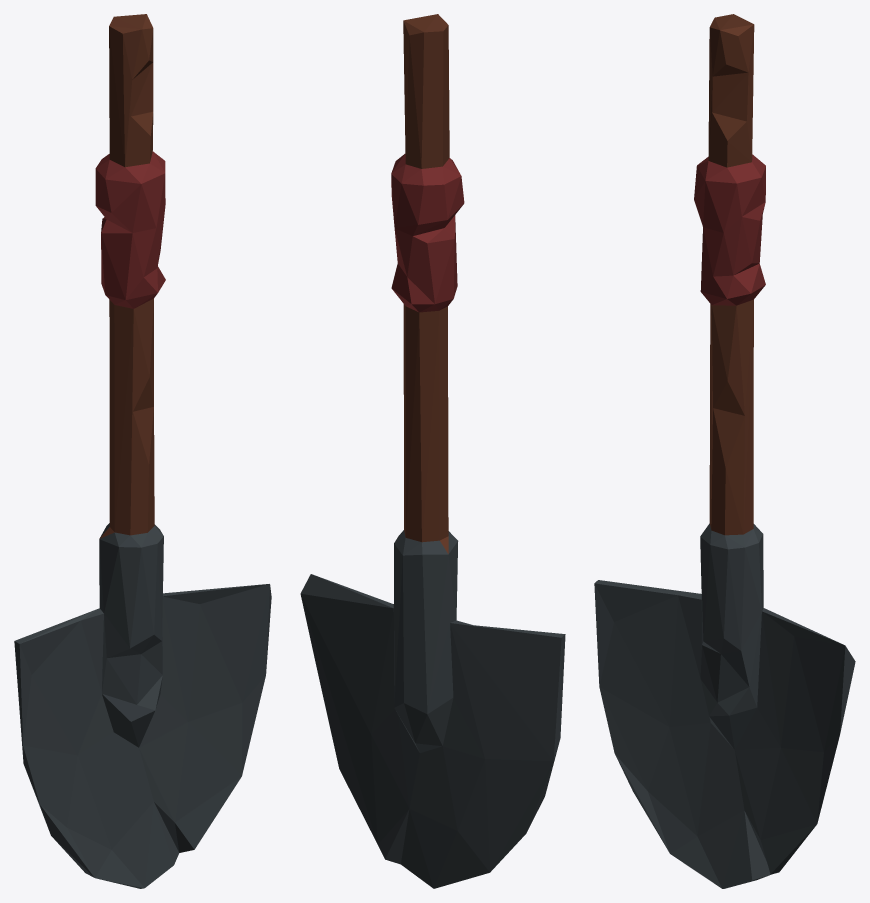
The model's file is MDungeon_Shovel.FBX.
The picture shows the model from 3 angles, left to right: view 1: azimuth 30°, elevation 25°; view 2: azimuth 150°, elevation 25°; view 3: azimuth 330°, elevation 25°; orthographic projection.
Parts seen in each view (by area): view 1: MDungeon_Shovel_LOD0; view 2: MDungeon_Shovel_LOD0; view 3: MDungeon_Shovel_LOD0.
Boxes of the visible parts, bbox=[...] form: MDungeon_Shovel_LOD0: bbox=[14, 14, 271, 888]; MDungeon_Shovel_LOD0: bbox=[300, 14, 565, 888]; MDungeon_Shovel_LOD0: bbox=[594, 14, 855, 888].
Size of what is drawn, in the model's own units: 0.3938 by 1.26 by 0.0944.
1 material, 1 textured.
